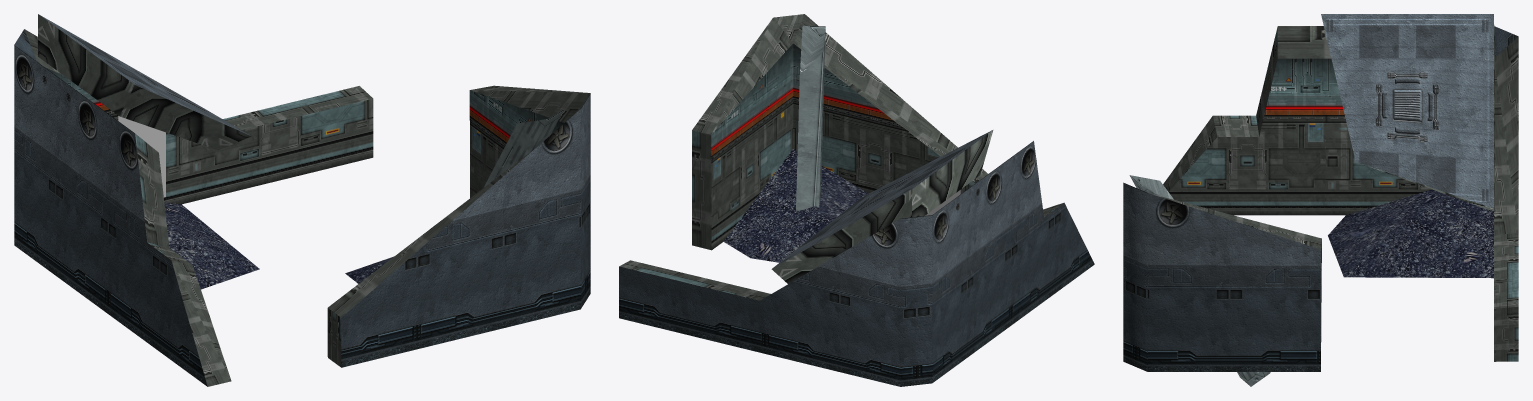
The model's file is pbwseg03.FBX.
3 views of the same model, side by side, from view 1: azimuth 30°, elevation 25°; view 2: azimuth 150°, elevation 25°; view 3: azimuth 270°, elevation 25° (orthographic). The views are drawn at different scales.
Visible parts, largest first — view 1: pbwseg03, interior3, ceiling02, debre, roof02, beam01, dmg3__2; view 2: pbwseg03, interior3, debre, ceiling02, beam01, roof02; view 3: interior3, pbwseg03, roof02, debre, beam01, ceiling02.
Part boxes in pixels (box(x1,y1,x2,y2)): pbwseg03: box(14, 29, 590, 386); interior3: box(24, 29, 590, 386); ceiling02: box(38, 14, 251, 150); debre: box(164, 202, 393, 289); roof02: box(40, 15, 250, 135); beam01: box(483, 109, 563, 187); dmg3__2: box(118, 116, 165, 197); pbwseg03: box(619, 76, 1094, 386); interior3: box(619, 14, 1063, 300); debre: box(724, 149, 868, 262); ceiling02: box(771, 130, 993, 283); beam01: box(796, 25, 825, 211); roof02: box(772, 130, 992, 268); interior3: box(1152, 26, 1518, 361); pbwseg03: box(1123, 26, 1518, 371); roof02: box(1321, 14, 1493, 208); debre: box(1328, 189, 1493, 278); beam01: box(1129, 175, 1270, 386); ceiling02: box(1362, 25, 1494, 211).
Size of what is drawn, in the model's own units: 16 by 16 by 11.29.
